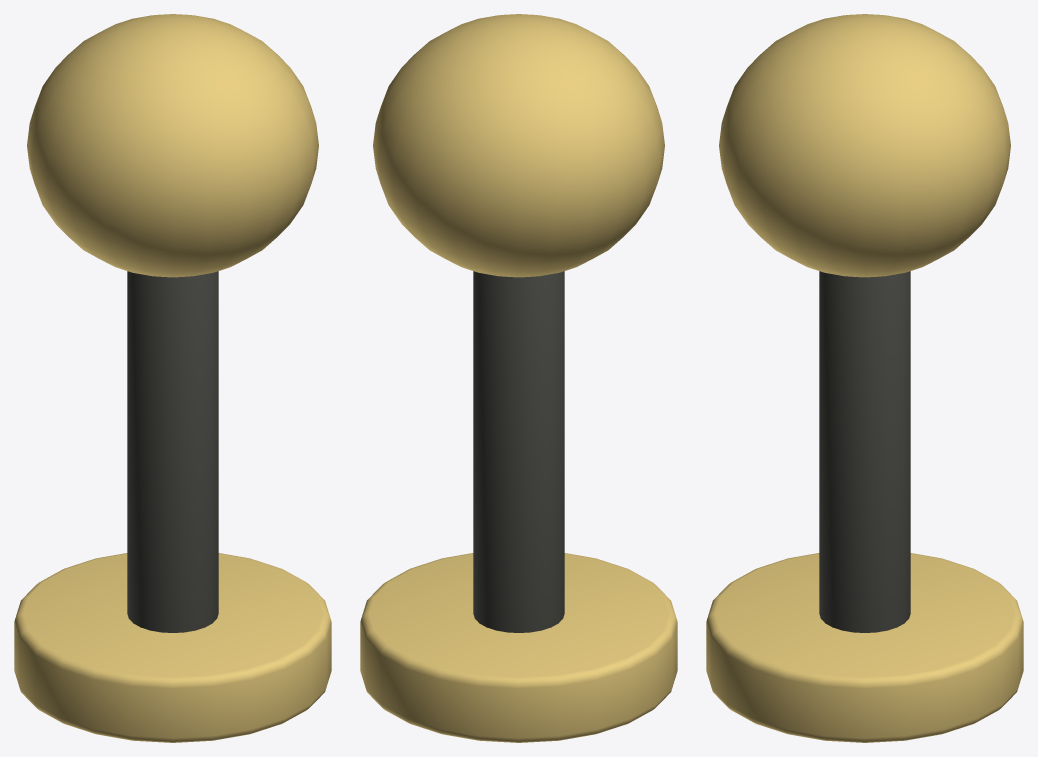
Rendered from desk-lamp.glb.
The picture shows the model from 3 angles, left to right: view 1: azimuth 30°, elevation 25°; view 2: azimuth 150°, elevation 25°; view 3: azimuth 270°, elevation 25°; orthographic projection.
Parts seen in each view (by area): view 1: shade, base.008, stem.001; view 2: shade, base.008, stem.001; view 3: shade, base.008, stem.001.
Part boxes in pixels (x1,y1,x2,y2): shade: (27,14,318,277); base.008: (14,553,331,742); stem.001: (127,271,218,632); shade: (373,14,664,277); base.008: (360,553,677,742); stem.001: (473,271,564,632); shade: (719,14,1010,277); base.008: (706,553,1023,742); stem.001: (819,271,910,632).
Bounding box in the file's own units: 0.2432 × 0.55 × 0.2432.
